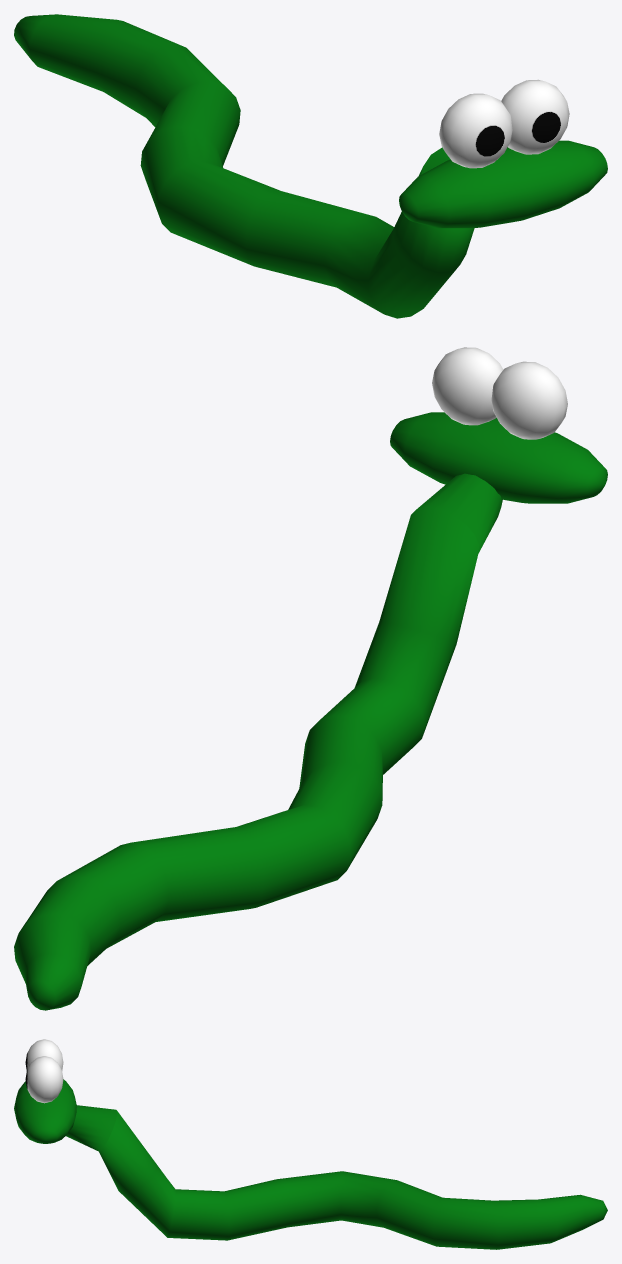
File: balloonSnake.fbx
3 renders of one model, top to bottom at view 1: azimuth 30°, elevation 25°; view 2: azimuth 150°, elevation 25°; view 3: azimuth 270°, elevation 25°, orthographic. The views are drawn at different scales.
Parts seen in each view (by area): view 1: Sphere.005; view 2: Sphere.005; view 3: Sphere.005.
Boxes of the visible parts, x1,y1,x2,y2 form: Sphere.005: (14, 14, 607, 318); Sphere.005: (14, 347, 607, 1010); Sphere.005: (14, 1039, 607, 1249).
Bounding box in the file's own units: 36.3 × 52.35 × 150.
